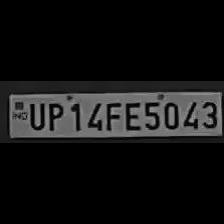0: (160, 99, 178, 129)
1: (64, 99, 82, 131)
3: (198, 98, 218, 130)
4: (82, 98, 104, 132), (180, 98, 198, 130)
5: (141, 98, 161, 130)
E: (122, 99, 140, 130)
F: (102, 99, 120, 131)
P: (44, 99, 64, 131)
U: (26, 99, 44, 130)
